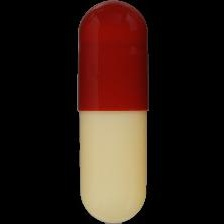0093-3040: (0, 0, 224, 224)
